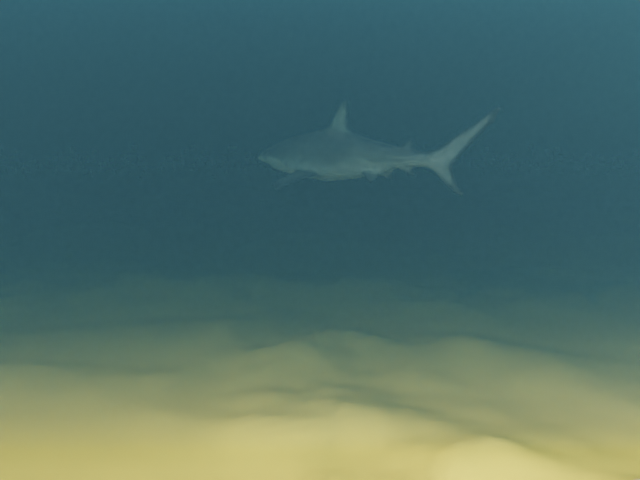Carribean Shark.001: (257, 99, 500, 194)
